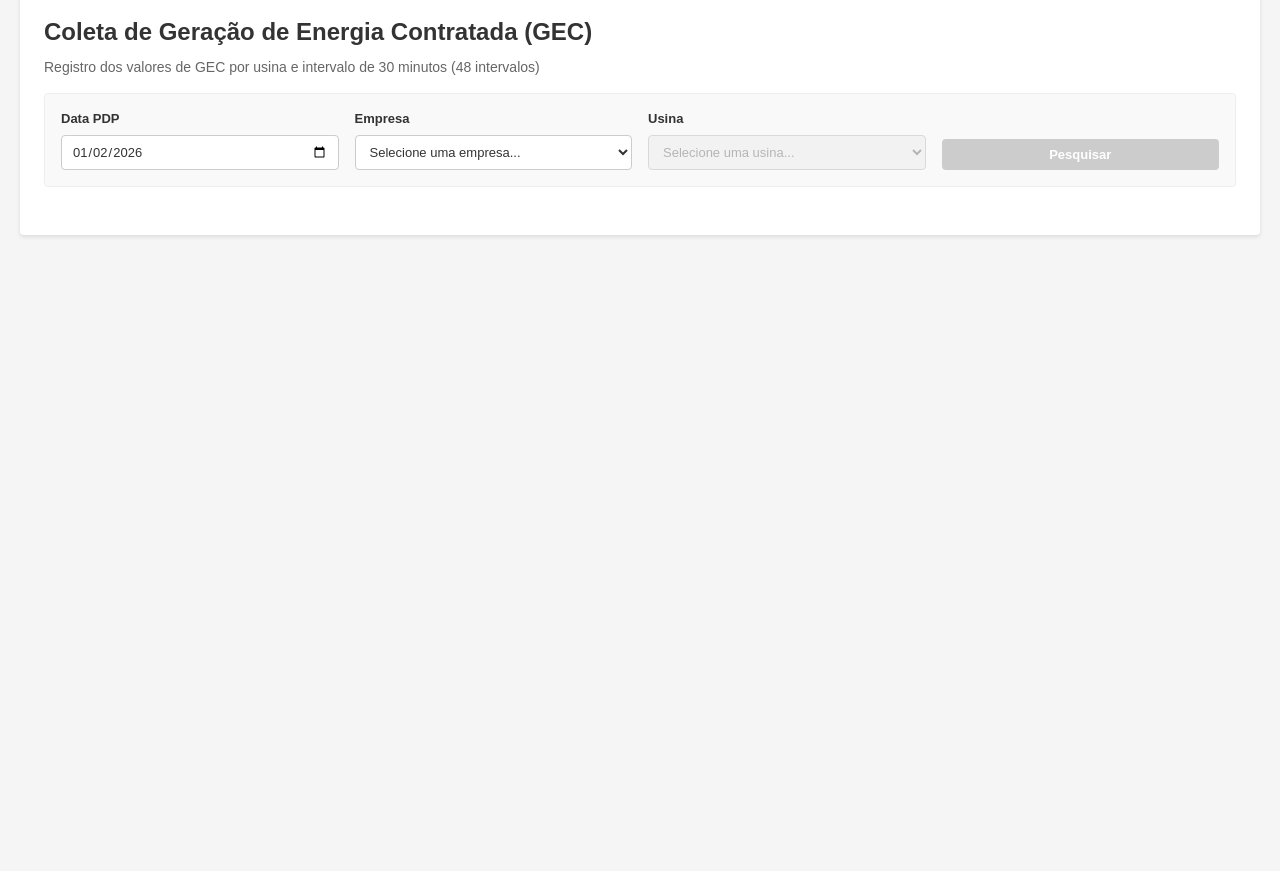
Test: GEC Component › deve atualizar totais ao editar valor e habilitar salvar
Select "Empresa Geradora Norte" in the dropdown with test id "company-filter" at (493, 152), box [354,135,632,170]
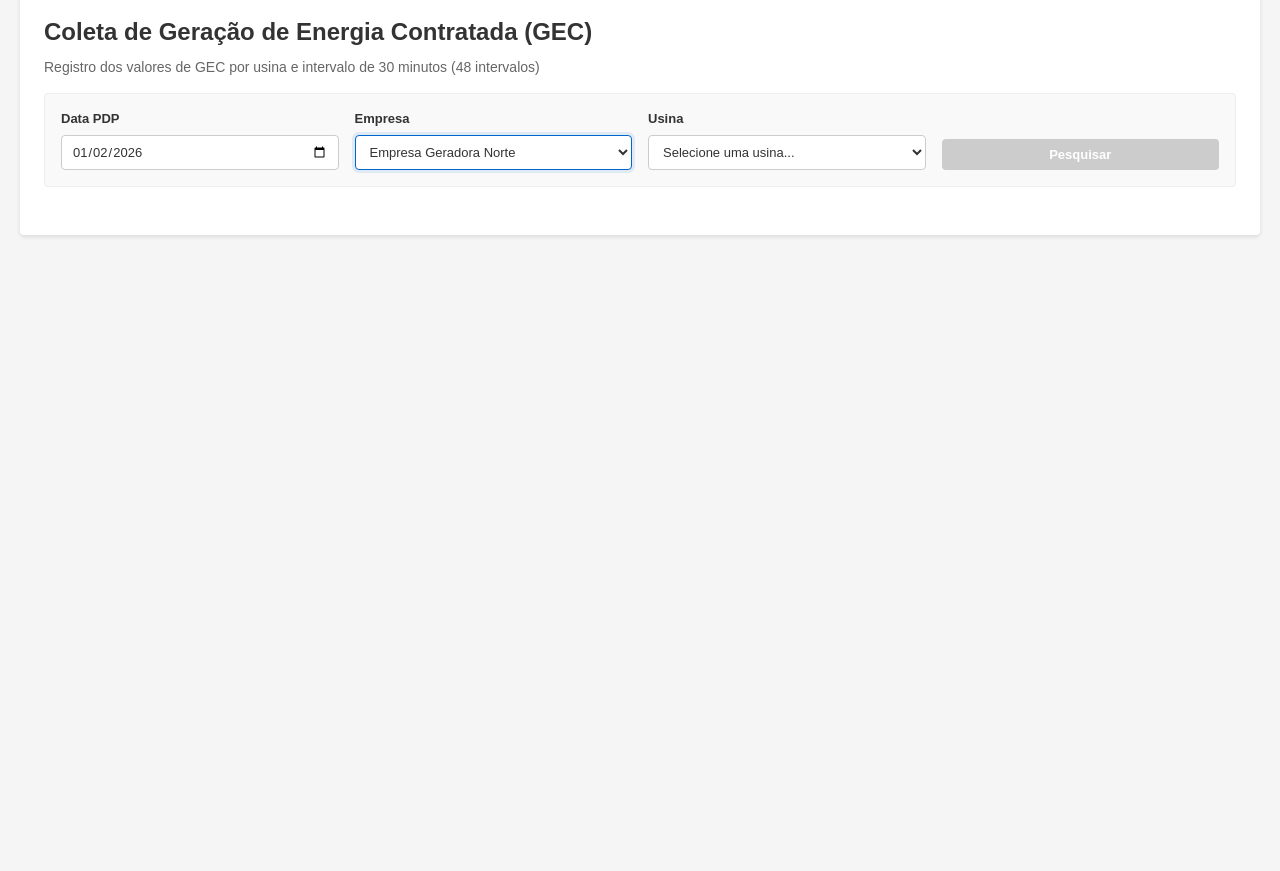
Select "Usina Geradora 1" in the dropdown with test id "plant-filter" at (787, 152), box [648,135,926,170]
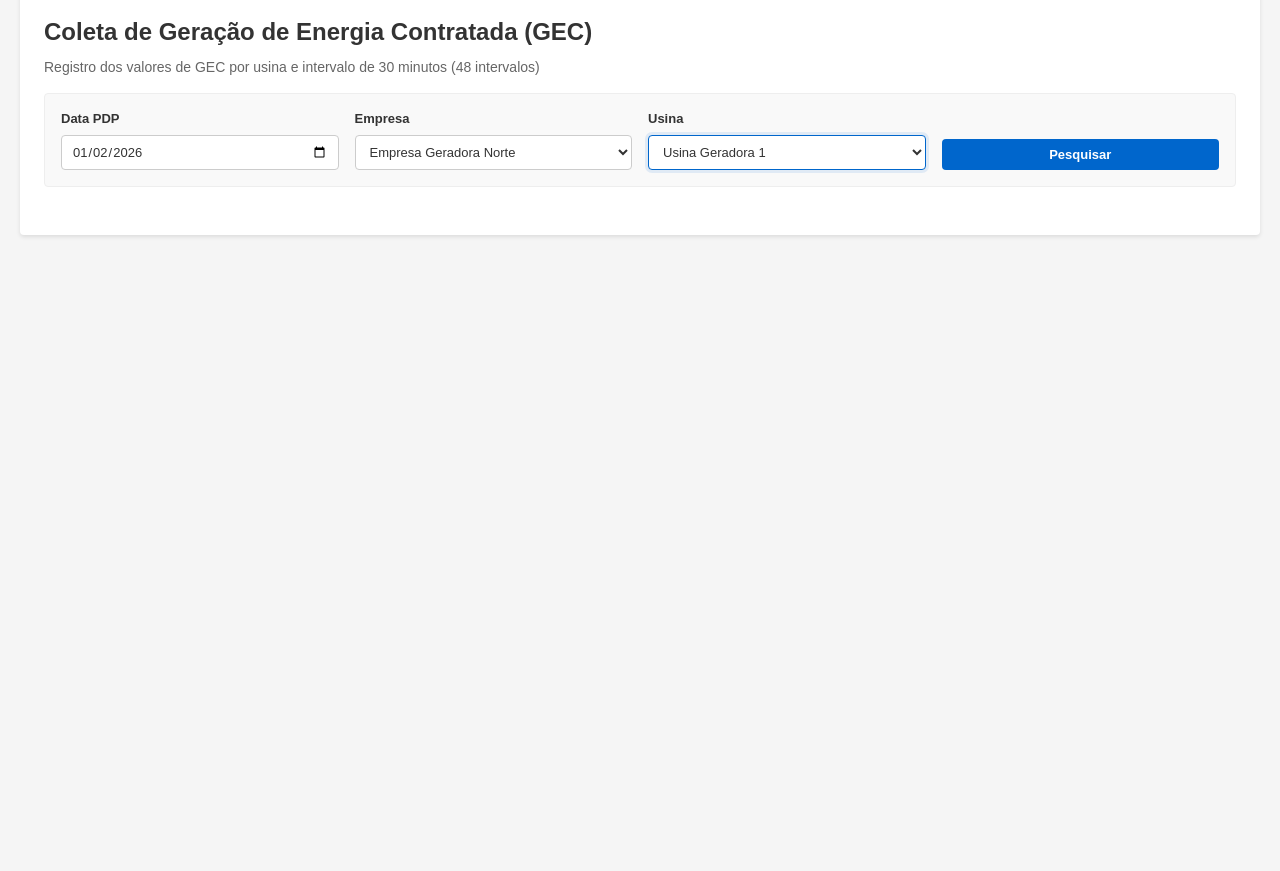
Click the button with test id "btn-search".
click(1080, 154)  # box [942,139,1219,170]
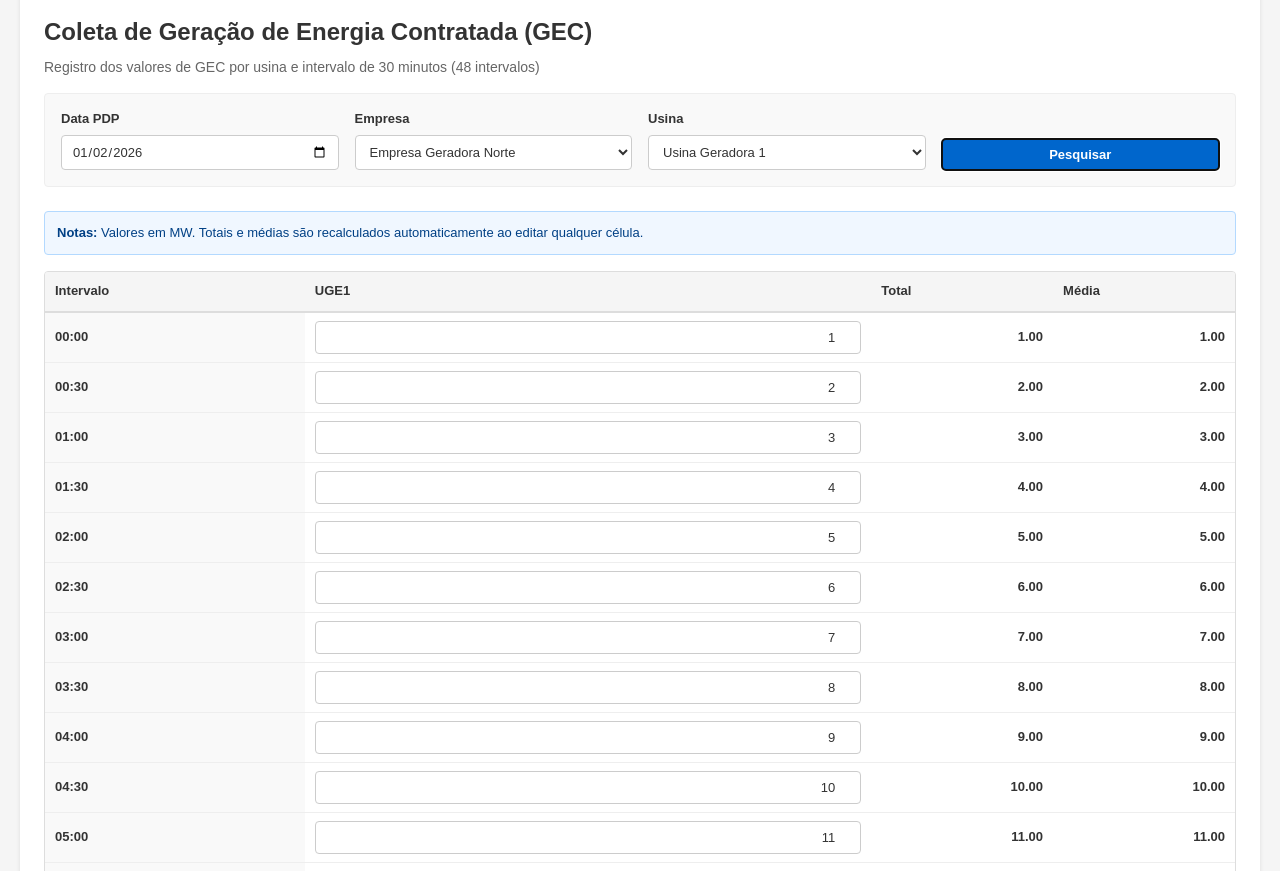
Clear the number field with test id "input-1-UGE1" at (588, 338), box [315,321,861,354]
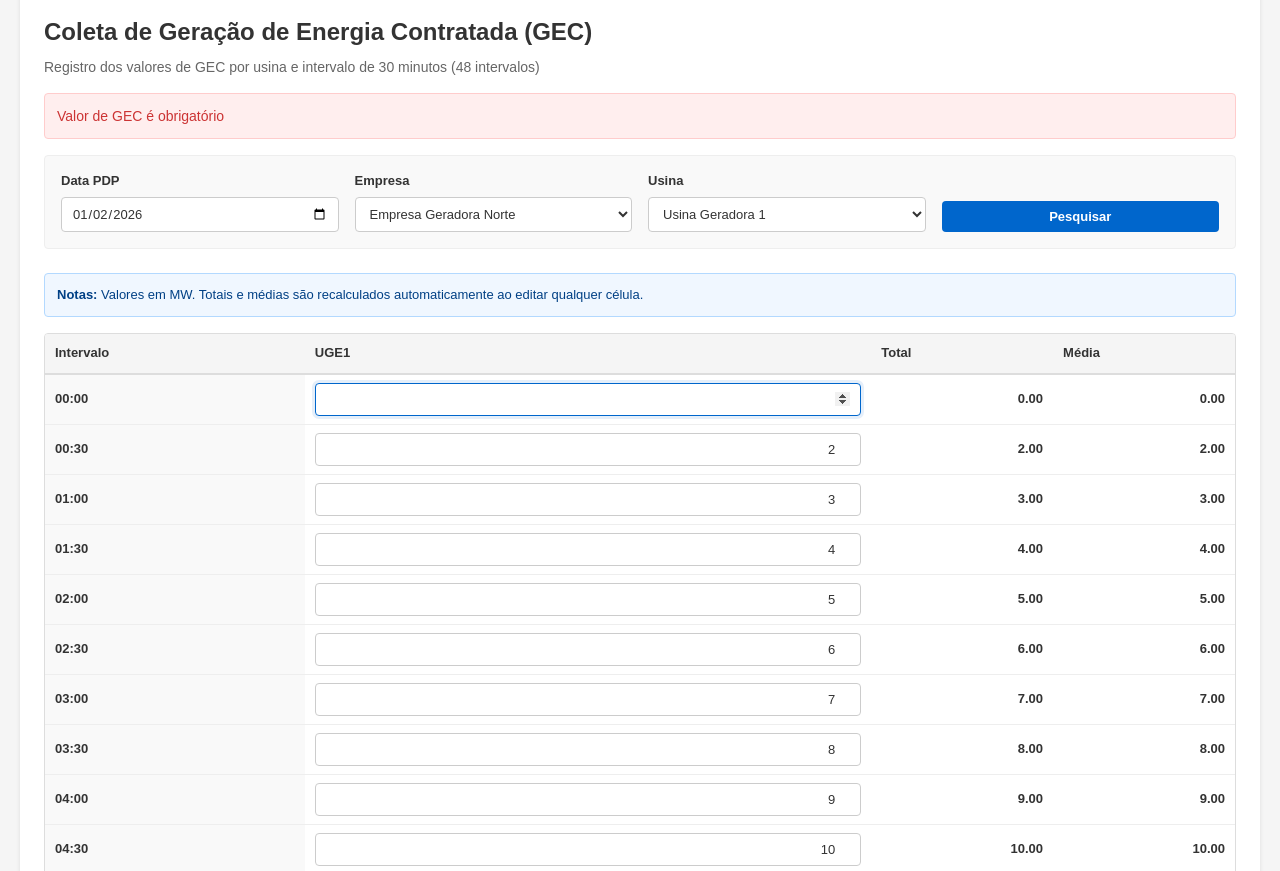
Type "50" into the number field with test id "input-1-UGE1".
click(588, 400); type("50")  # box [315,383,861,416]
(page scrolled)
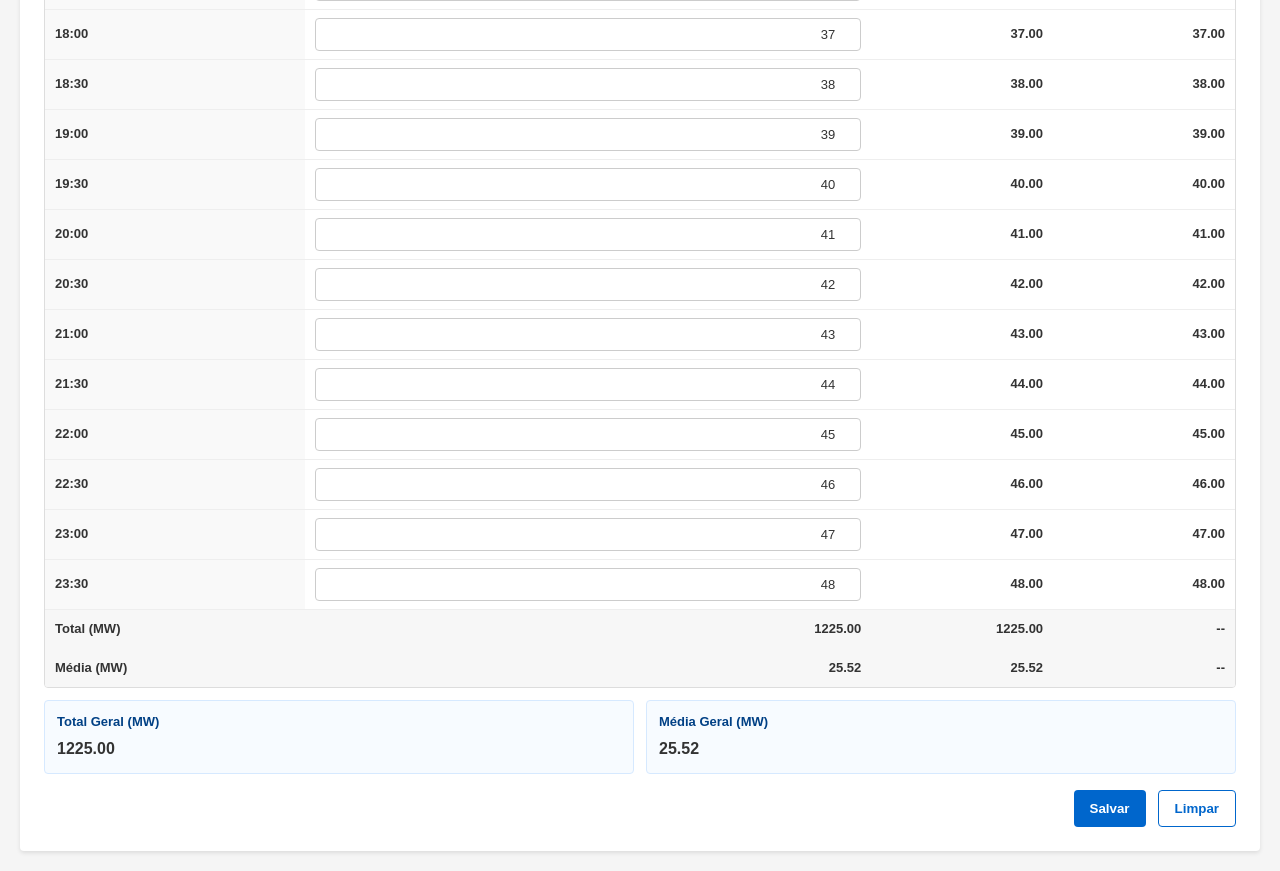
Now the button with test id "btn-save" is enabled
Click the button with test id "btn-save".
click(1110, 808)  # box [1074,790,1146,826]
(page scrolled)
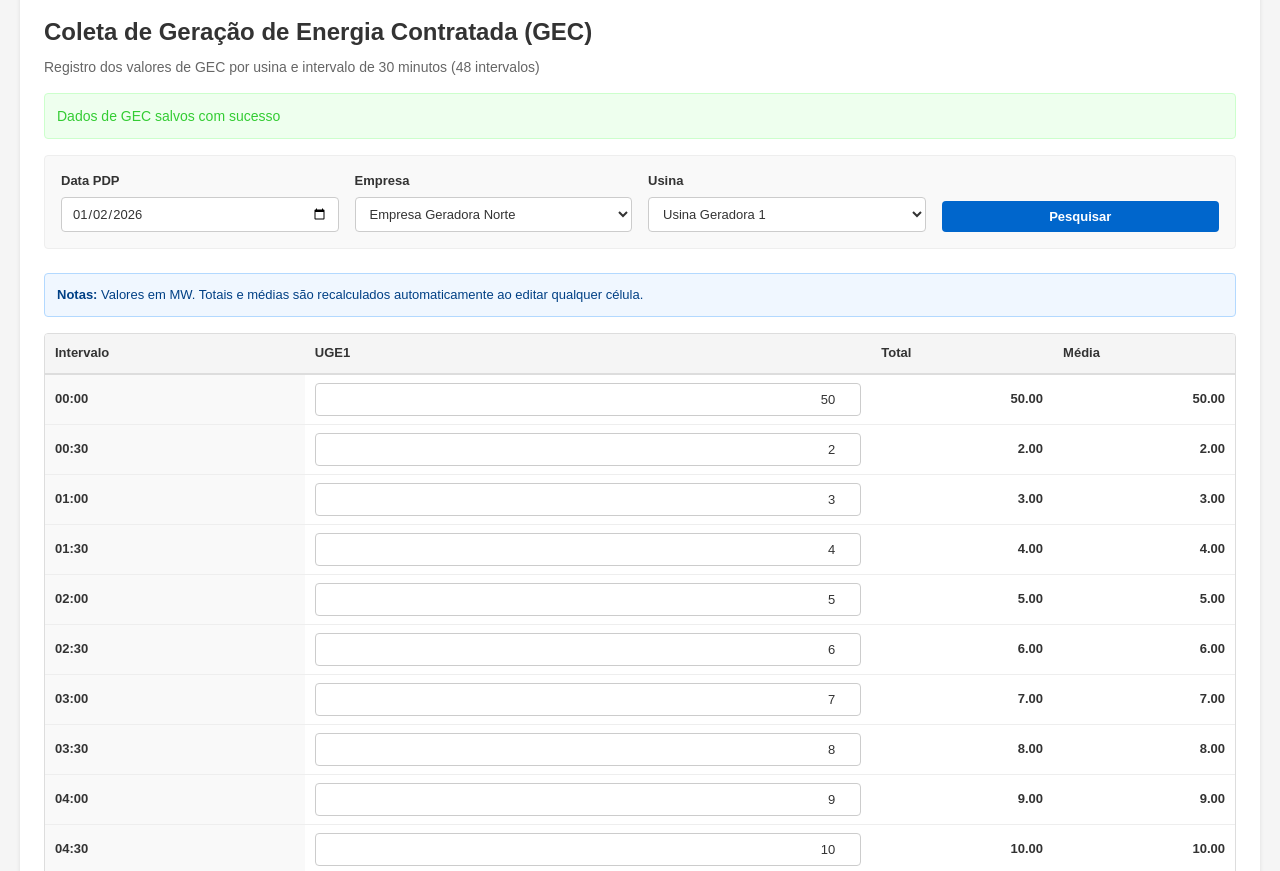
Now the text with test id "success-message" shows "salvos", box [57,108,280,124]
